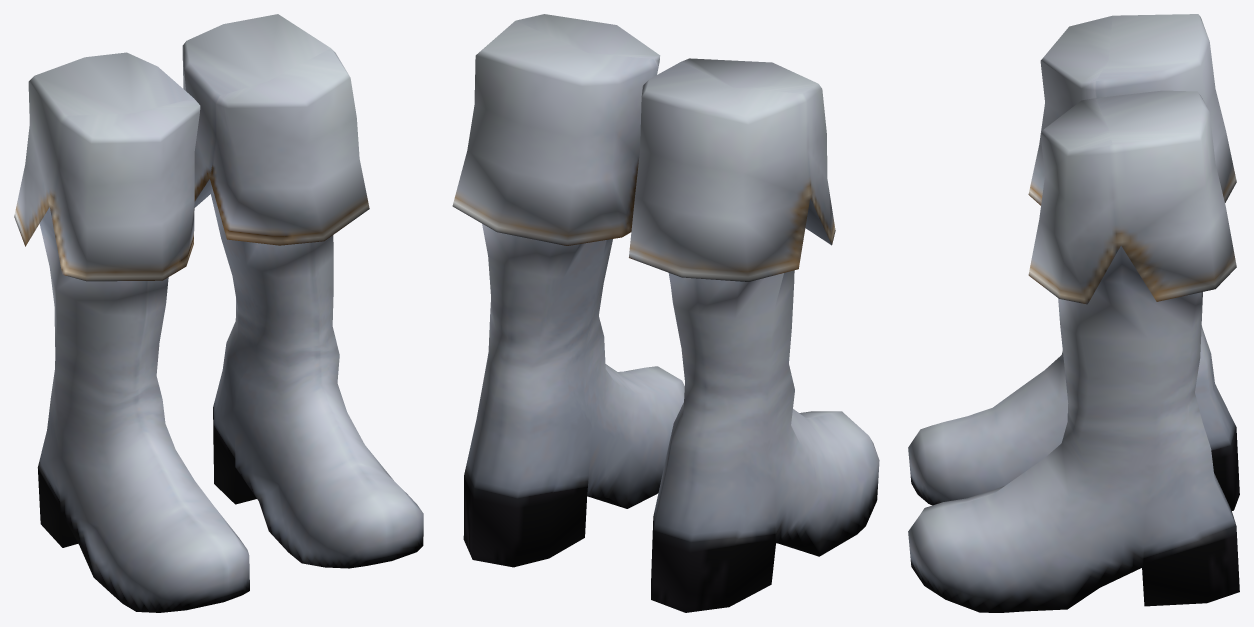
The model's file is DiplomatBoots_Ground.fbx.
The picture shows the model from 3 angles, left to right: view 1: azimuth 30°, elevation 25°; view 2: azimuth 150°, elevation 25°; view 3: azimuth 270°, elevation 25°; orthographic projection. The views are drawn at different scales.
Visible parts, largest first — view 1: DiplomatBoots; view 2: DiplomatBoots; view 3: DiplomatBoots.
Boxes of the visible parts, box(x1,y1,x2,y2) form: DiplomatBoots: box(14, 14, 423, 612); DiplomatBoots: box(452, 14, 879, 612); DiplomatBoots: box(908, 14, 1239, 612).
Bounding box in the file's own units: 0.1478 × 0.2099 × 0.1341.
